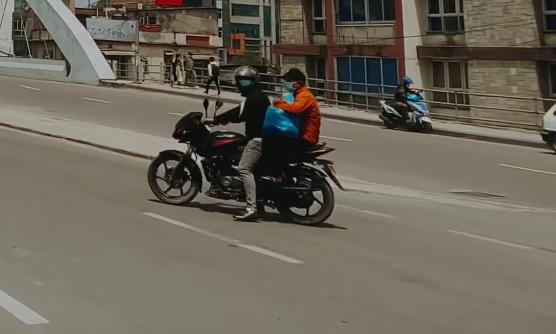bike: (145, 95, 348, 227)
